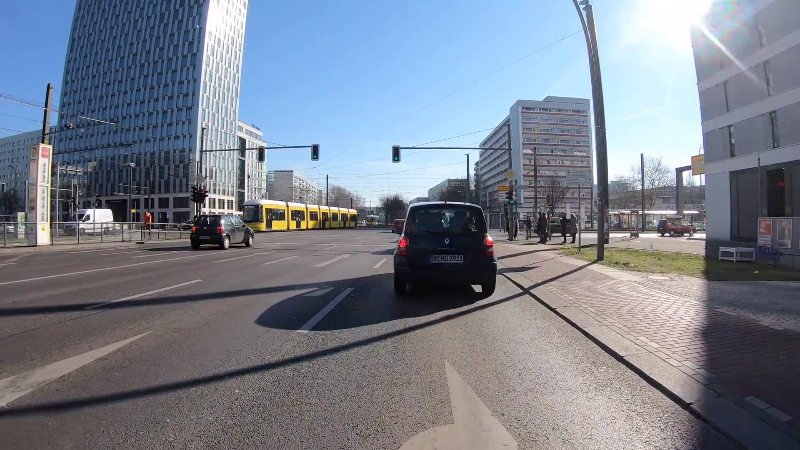Plate: (426, 253, 464, 264)
